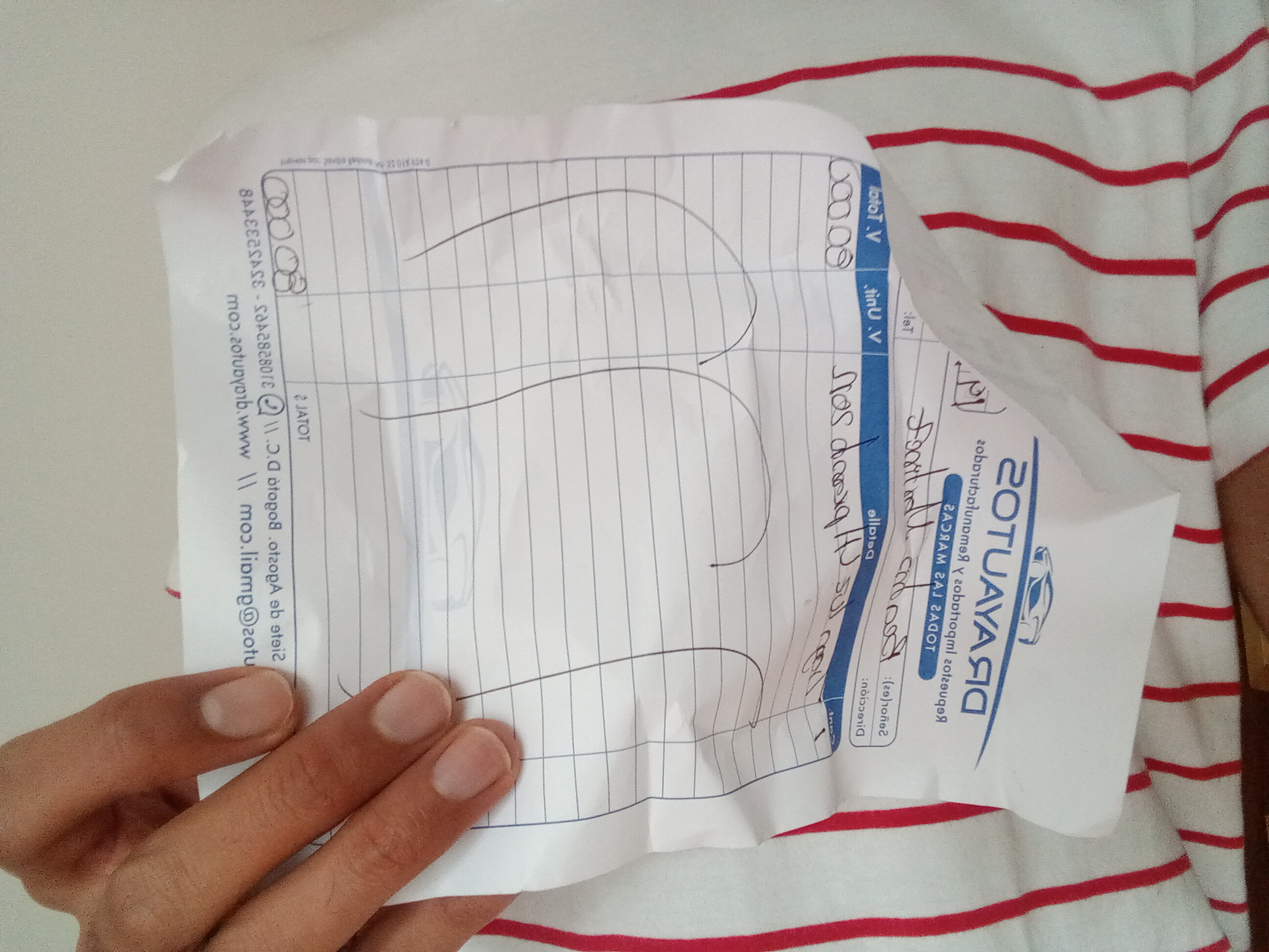Papel: (162, 98, 1179, 903)
